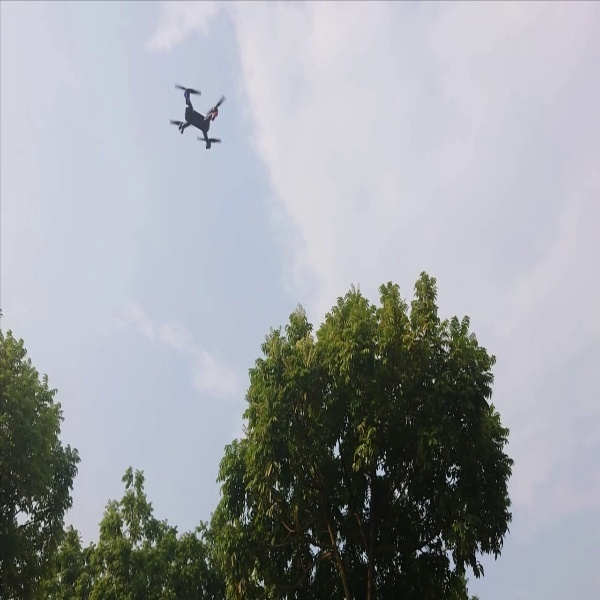drone: (160, 81, 231, 158)
